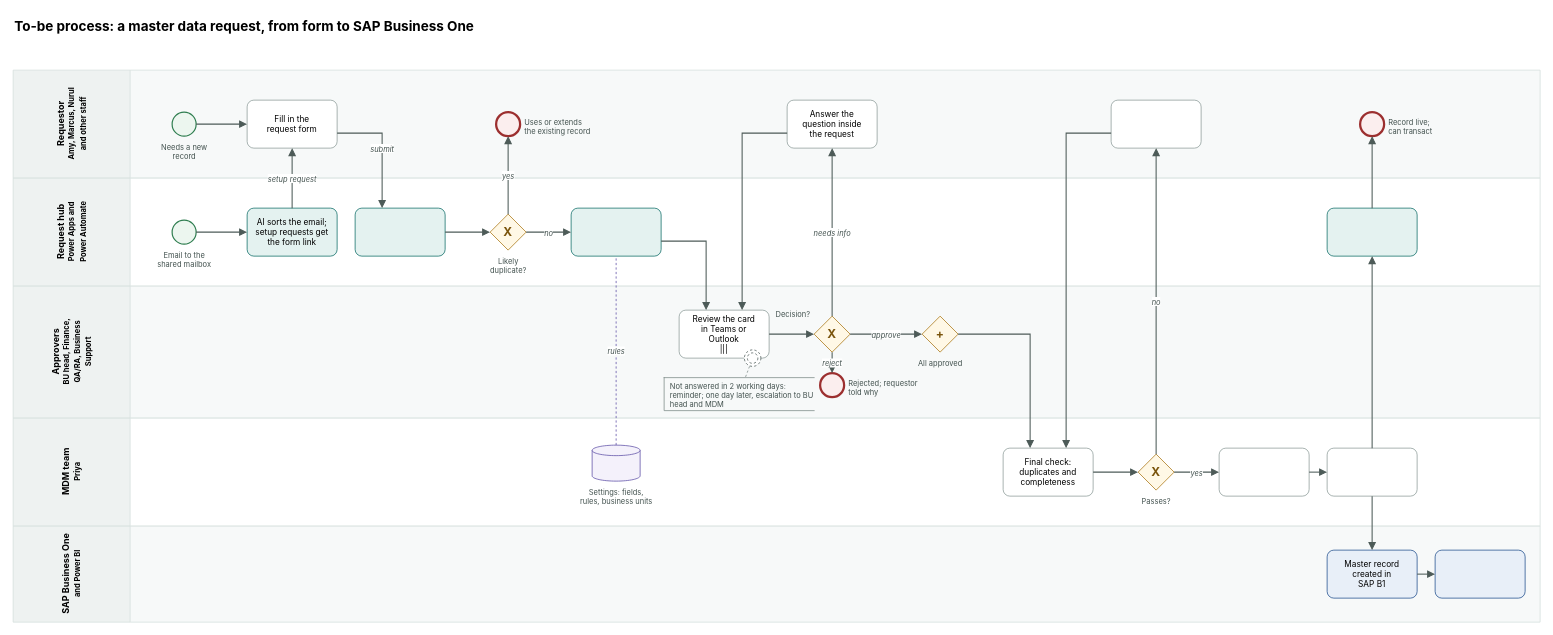
Image size: 1553x635. Some labels were removed from this diagram. Each missing label, with the centre of its shape:
"Assign SAP code; add to import file" belongs at [1263,471].
"Check required fields and duplicates live" belongs at [399,231].
"Fix and resubmit" belongs at [1155,123].
"Load the file with Data Transfer Workbench" belongs at [1371,471].
"Orders feed the regional view (Power BI)" belongs at [1479,573].
"Route by rules; notify approvers at the same time" belongs at [615,231].
"Tell the requestor; log every step" belongs at [1371,231].
